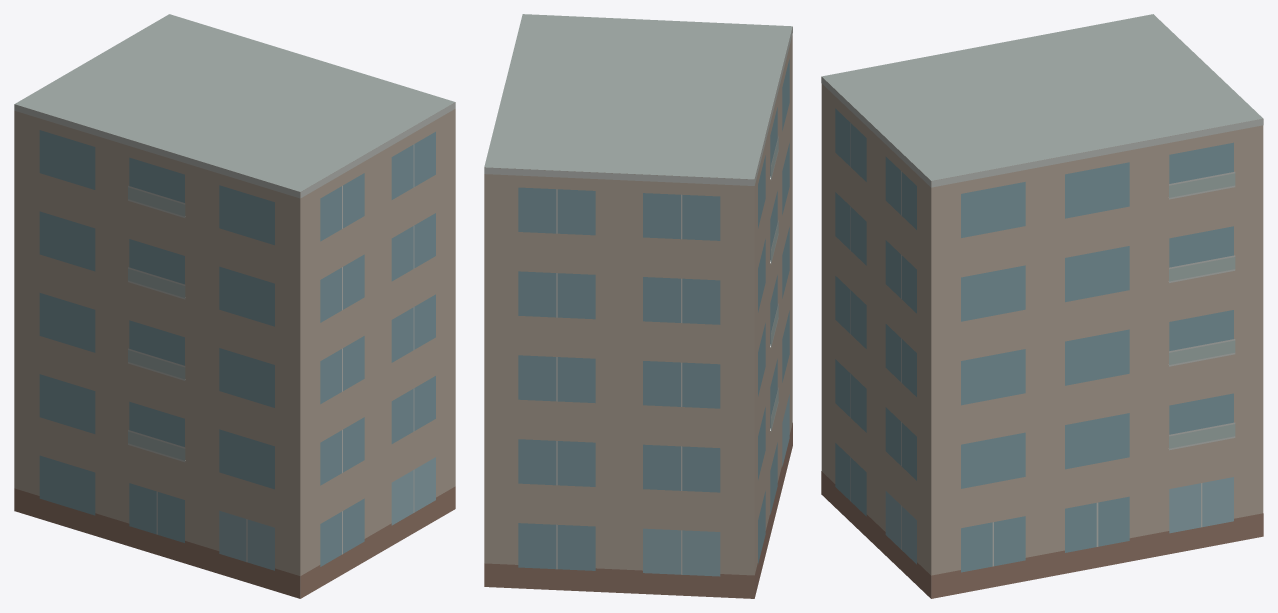
Rendered from residential-56504b6e-77f2-4aab-8e7e-f8d60adb20b9.glb.
3 renders of one model, left to right at view 1: azimuth 30°, elevation 25°; view 2: azimuth 150°, elevation 25°; view 3: azimuth 270°, elevation 25°, orthographic. The views are drawn at different scales.
Parts seen in each view (by area): view 1: residential-56504b6e-77f2-4aab-8e7e-f8d60adb20b9.tmp; view 2: residential-56504b6e-77f2-4aab-8e7e-f8d60adb20b9.tmp; view 3: residential-56504b6e-77f2-4aab-8e7e-f8d60adb20b9.tmp.
Part boxes in pixels (x1=…): residential-56504b6e-77f2-4aab-8e7e-f8d60adb20b9.tmp: x1=14, y1=14, x2=455, y2=598; residential-56504b6e-77f2-4aab-8e7e-f8d60adb20b9.tmp: x1=484, y1=14, x2=792, y2=598; residential-56504b6e-77f2-4aab-8e7e-f8d60adb20b9.tmp: x1=821, y1=14, x2=1263, y2=598.
Bounding box in the file's own units: 13.08 × 15.25 × 14.63.
